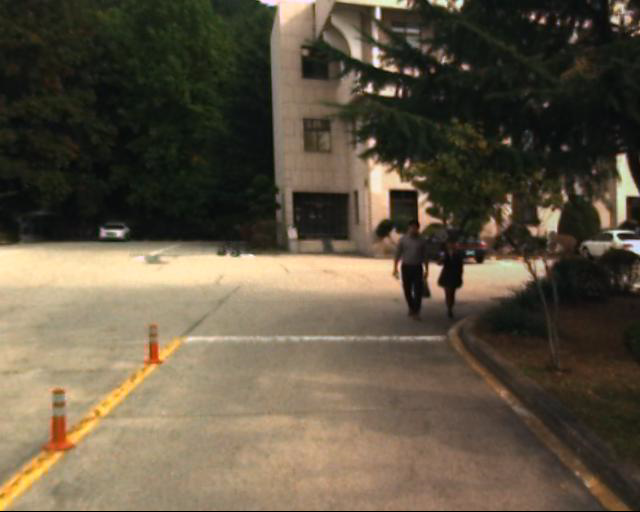person: (394, 218, 432, 323), (436, 234, 469, 329)
